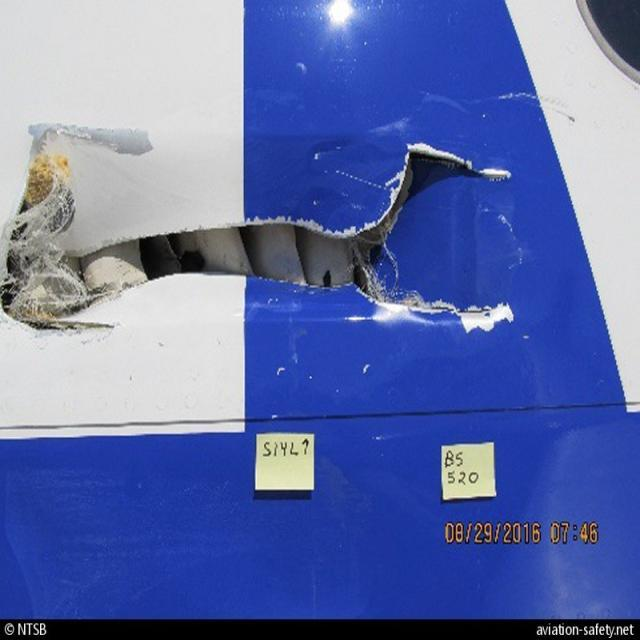crack: (422, 138, 513, 194), (405, 293, 505, 324)
